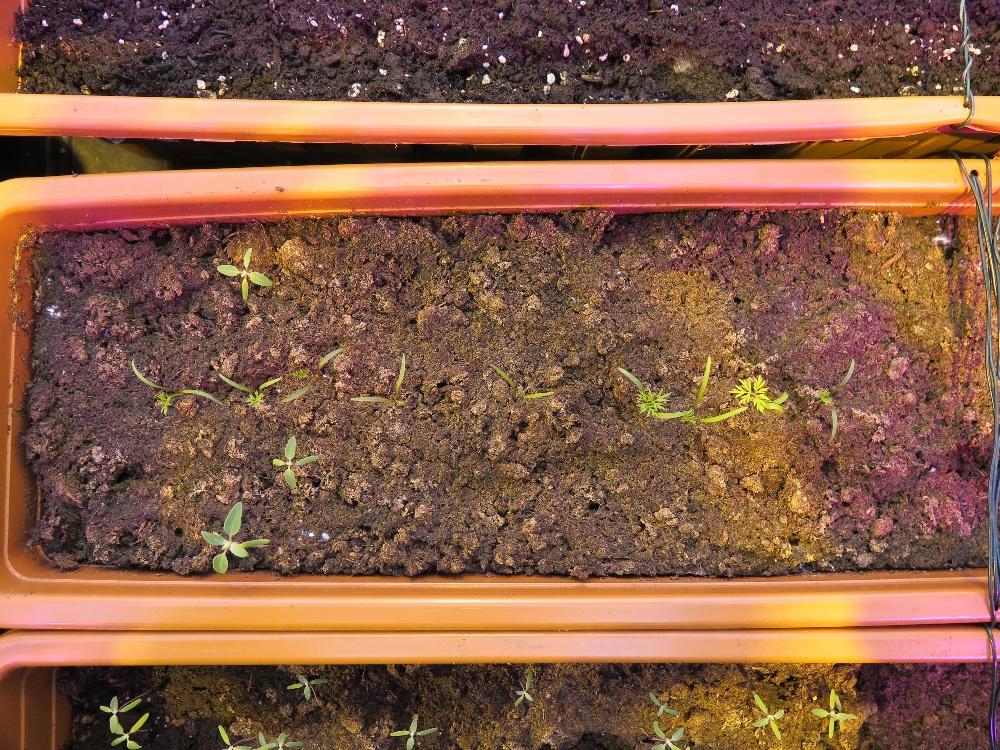weed: (725, 373, 886, 443), (610, 357, 736, 430), (125, 353, 231, 418), (198, 495, 281, 576), (344, 340, 428, 414), (482, 359, 557, 407), (215, 366, 296, 409), (215, 247, 274, 301), (269, 434, 322, 490), (750, 691, 785, 742), (285, 673, 329, 701), (648, 690, 680, 718), (513, 670, 534, 710)
